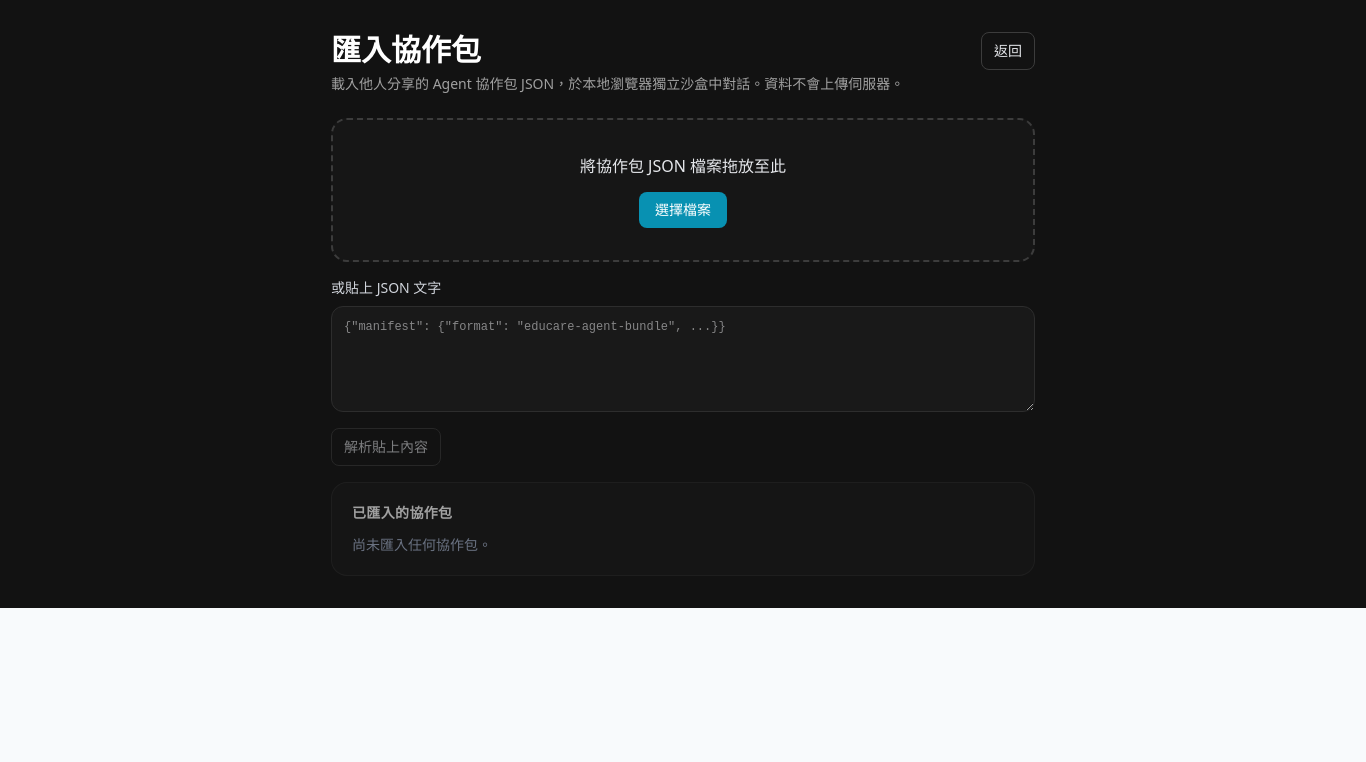
Test: BundleImportPage › shows only protected-state messaging for a v2 bundle without prompting for credentials
In the text box: (683, 359) [331,306,1035,412], type "protected"
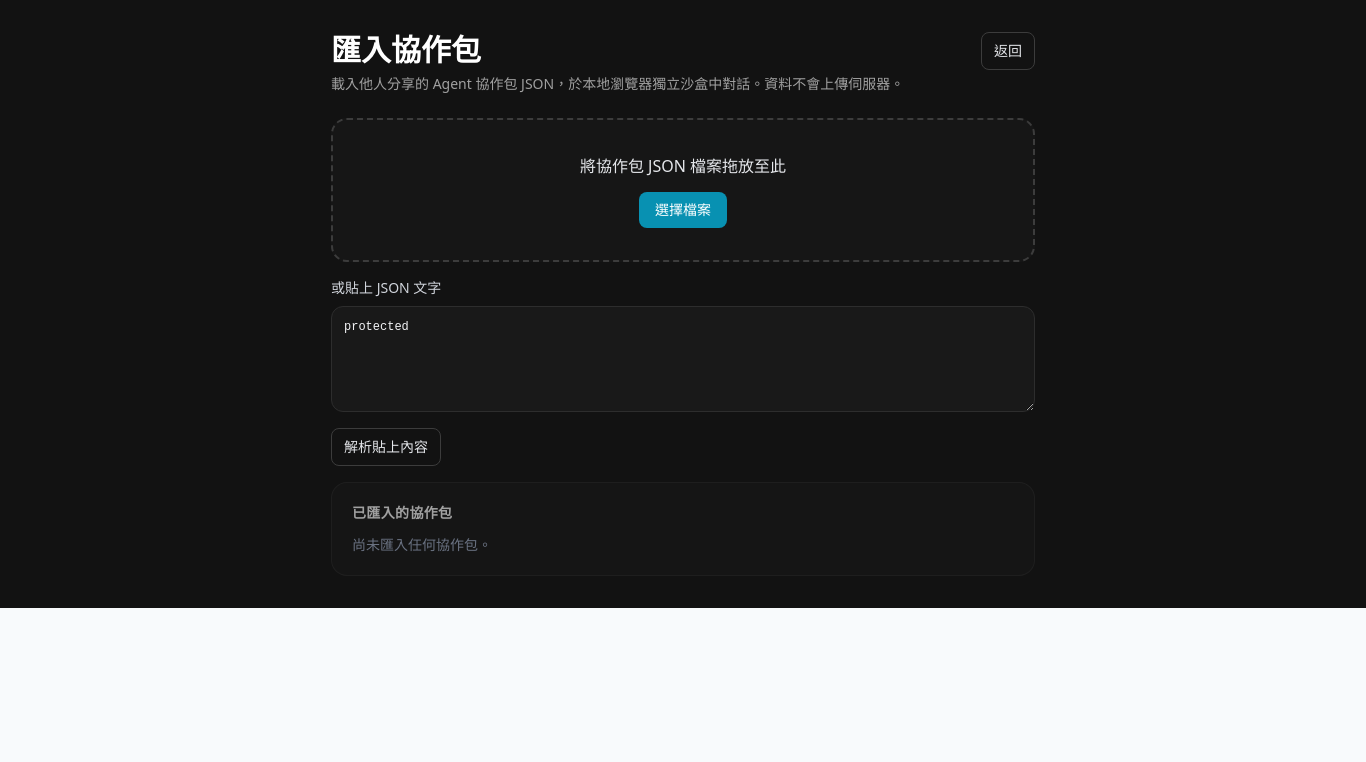
Click the button "解析貼上內容": (386, 447) [331,428,441,466]
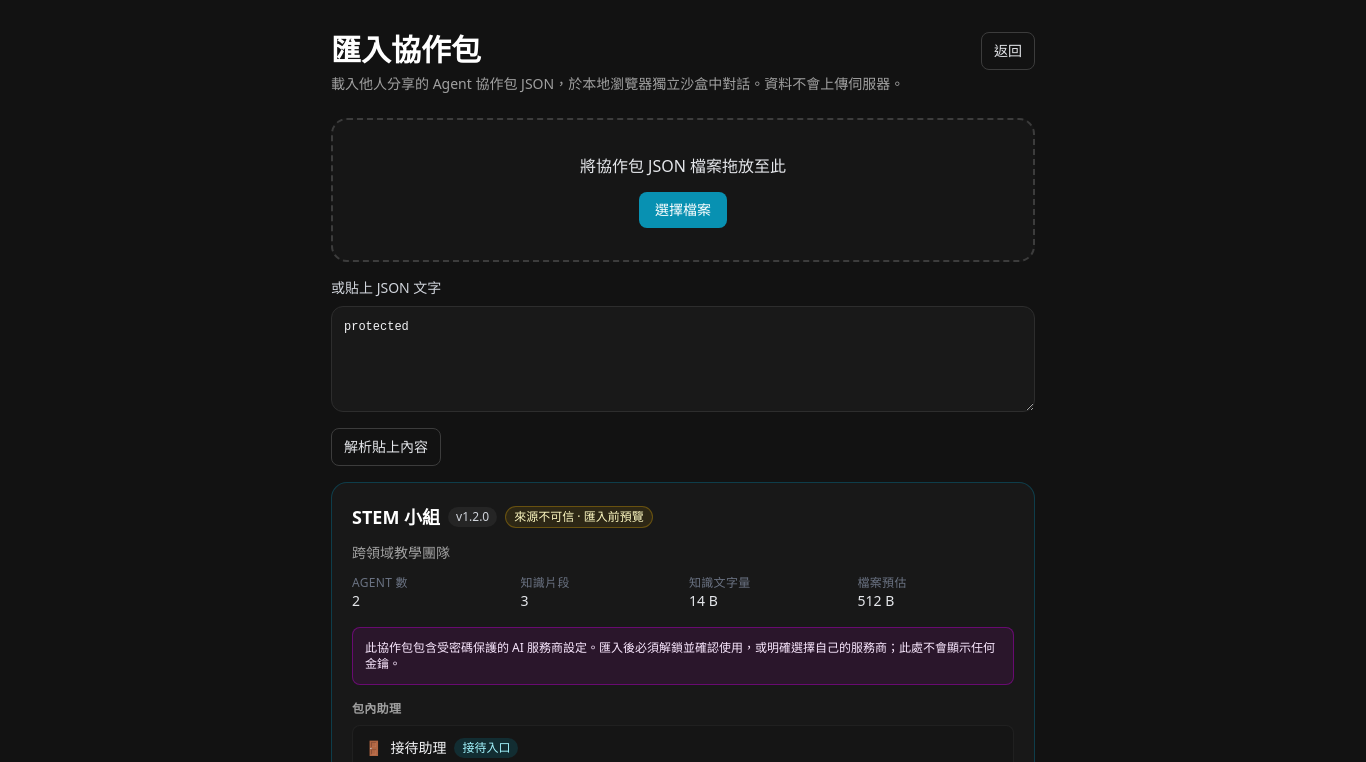
Expected: the text "此協作包包含受密碼保護的 AI 服務商設定。匯入後必須解鎖並確認使用，或明確選擇自己的服務商；此處不會顯示任何金鑰。" is shown, [352,627,1014,685]
